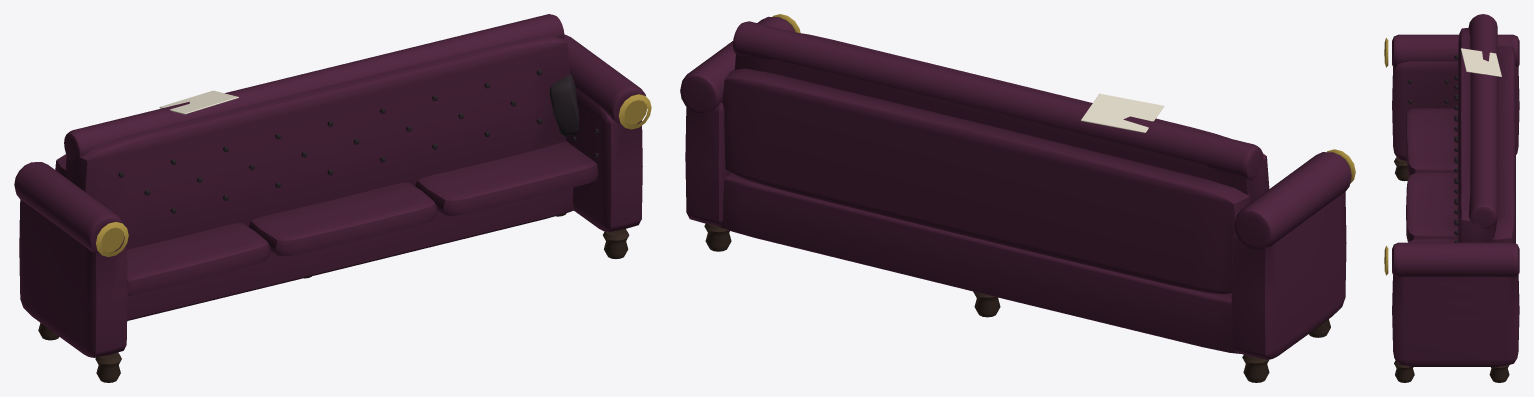
Rendered from sofa_velvet.glb.
3 views of the same model, side by side, from view 1: azimuth 30°, elevation 25°; view 2: azimuth 150°, elevation 25°; view 3: azimuth 270°, elevation 25° (orthographic). The views are drawn at different scales.
Visible parts, largest first — view 1: sofa_velvet; view 2: sofa_velvet; view 3: sofa_velvet.
Part boxes in pixels (<box>): sofa_velvet: <box>14,14,651,382</box>; sofa_velvet: <box>680,14,1355,382</box>; sofa_velvet: <box>1384,14,1519,382</box>.
Bounding box in the file's own units: 2.9 × 1.05 × 0.742.
